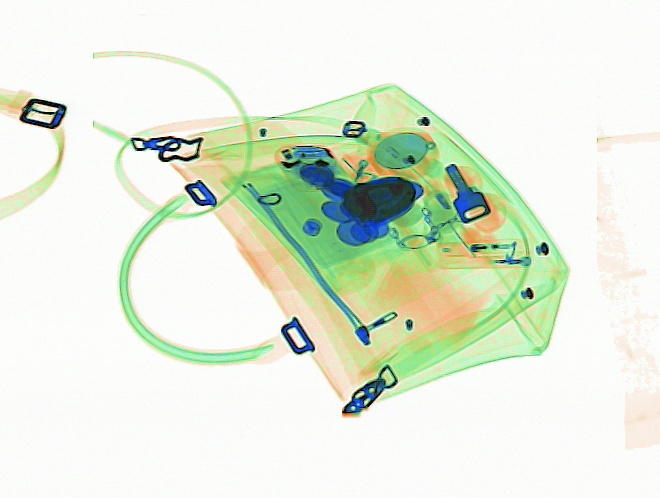lighter: (432, 236, 536, 269)
